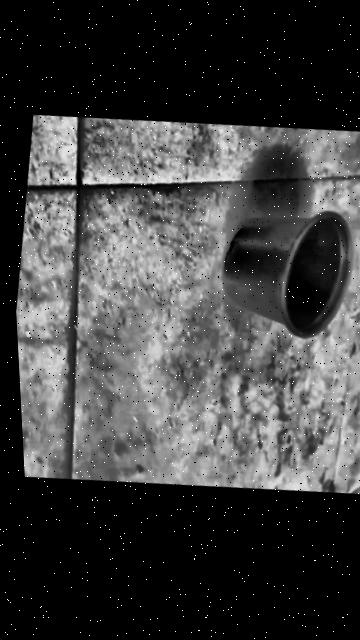pot: (211, 195, 360, 350)
